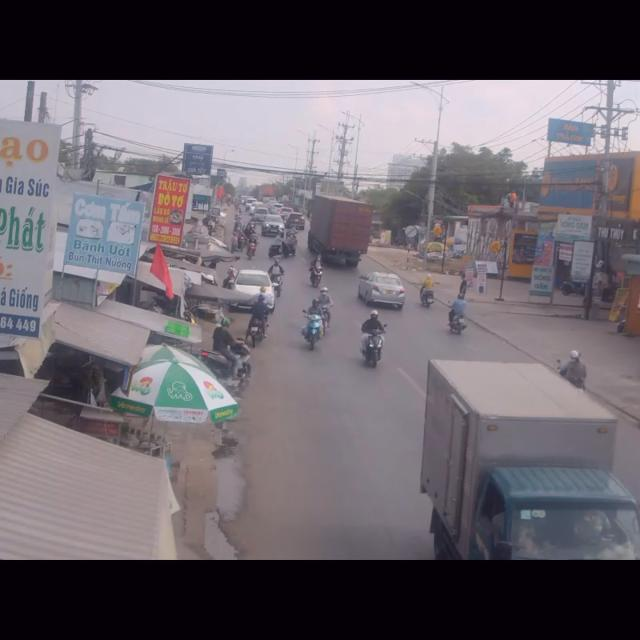car: (356, 272, 404, 315)
motorbike: (207, 320, 250, 381), (358, 308, 384, 372), (303, 290, 328, 356), (562, 346, 589, 393), (447, 292, 468, 337), (250, 296, 268, 342), (417, 273, 434, 310), (310, 251, 324, 286), (270, 260, 285, 290)
truck: (421, 350, 640, 561), (308, 193, 369, 263)
